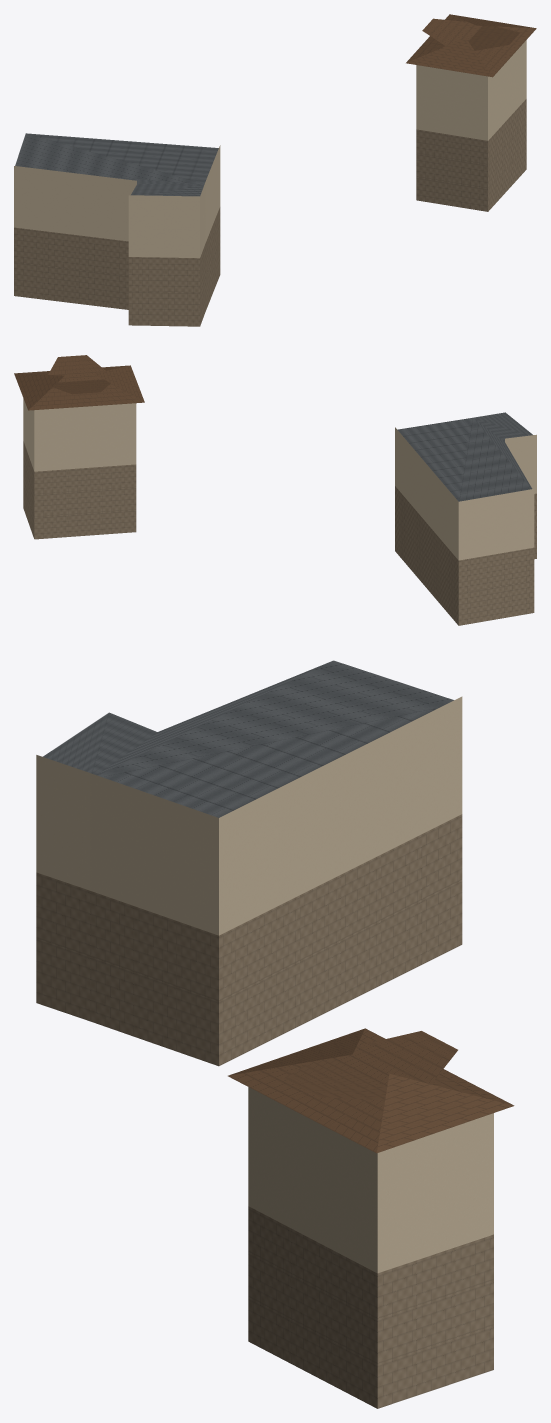
The model's file is bld_c14_37_410.gltf.
3 views of the same model, one above another, from view 1: azimuth 30°, elevation 25°; view 2: azimuth 150°, elevation 25°; view 3: azimuth 270°, elevation 25° (orthographic). The views are drawn at different scales.
Parts seen in each view (by area): view 1: bld_c14_37_410; view 2: bld_c14_37_410; view 3: bld_c14_37_410.
Part boxes in pixels (x1,y1,x2,y2): bld_c14_37_410: (14,14,536,326); bld_c14_37_410: (14,355,536,625); bld_c14_37_410: (36,660,514,1408).
Bounding box in the file's own units: 39.85 × 10.9 × 16.21.
5 materials, 5 textured.
